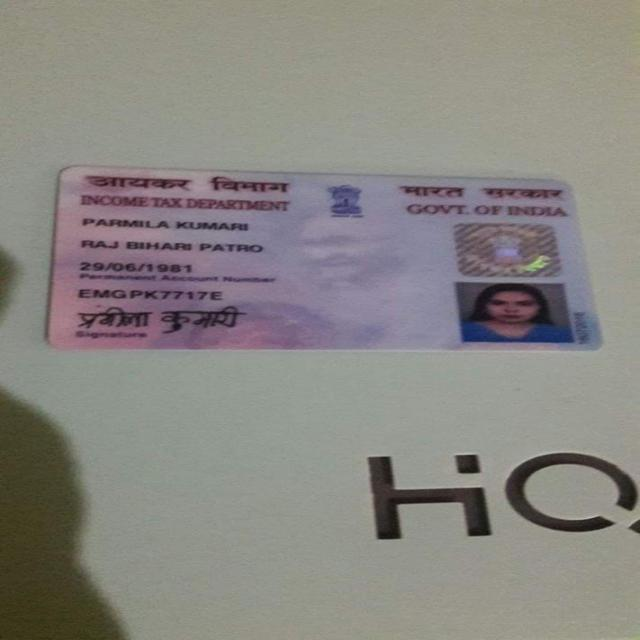pan_card: (47, 166, 603, 350)
